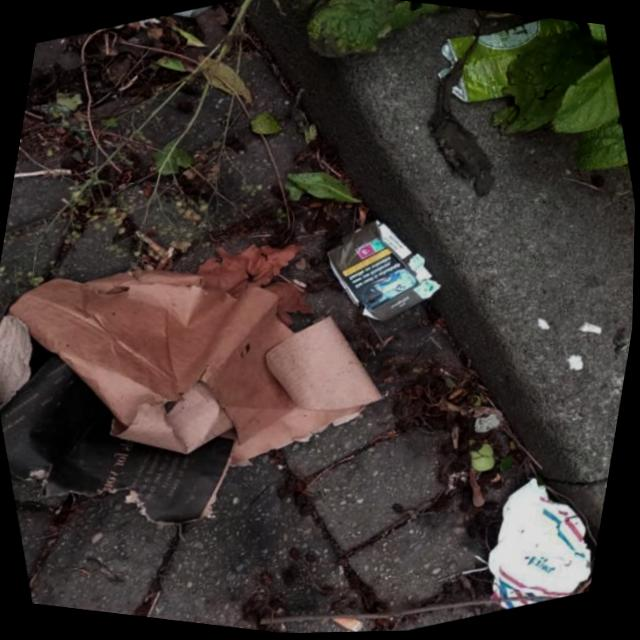Paper: (481, 470, 608, 623), (316, 209, 455, 332)
